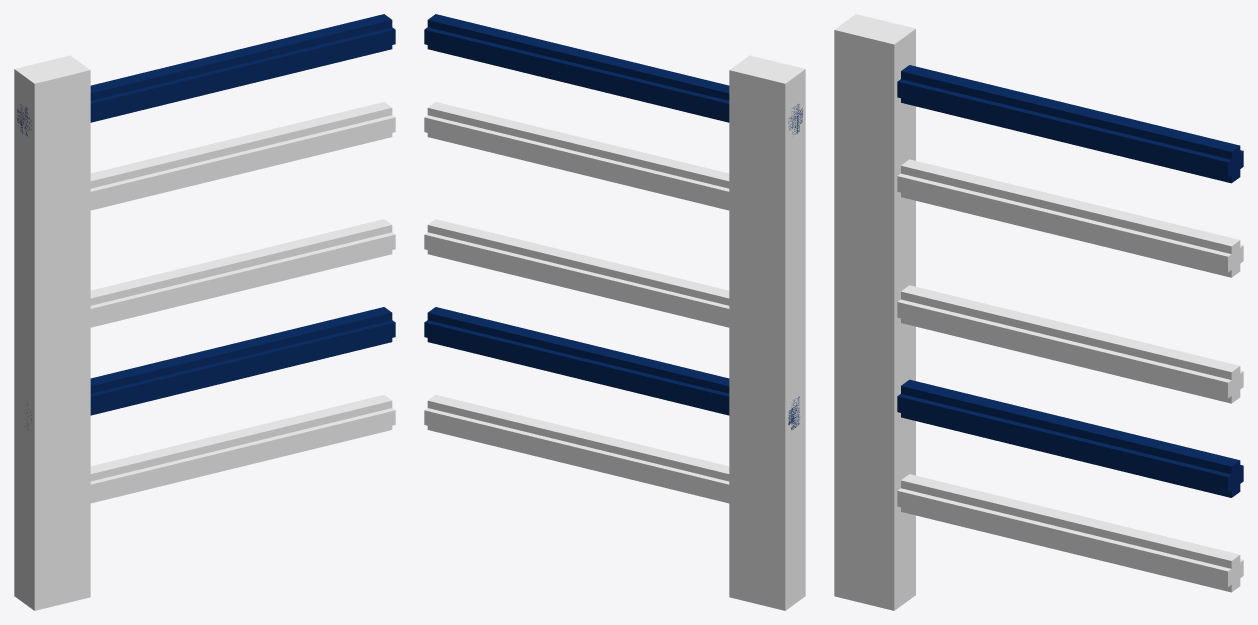
File: scotrail_fence_end.obj
The picture shows the model from 3 angles, left to right: view 1: azimuth 30°, elevation 25°; view 2: azimuth 150°, elevation 25°; view 3: azimuth 330°, elevation 25°; orthographic projection. The views are drawn at different scales.
Visible parts, largest first — view 1: cube; view 2: cube; view 3: cube.
Boxes of the visible parts, <box> form: cube: <box>14,14,395,610</box>; cube: <box>424,14,805,610</box>; cube: <box>834,14,1243,610</box>.
Size of the model in its own units: 0.8125 by 1.12 by 0.0781.
